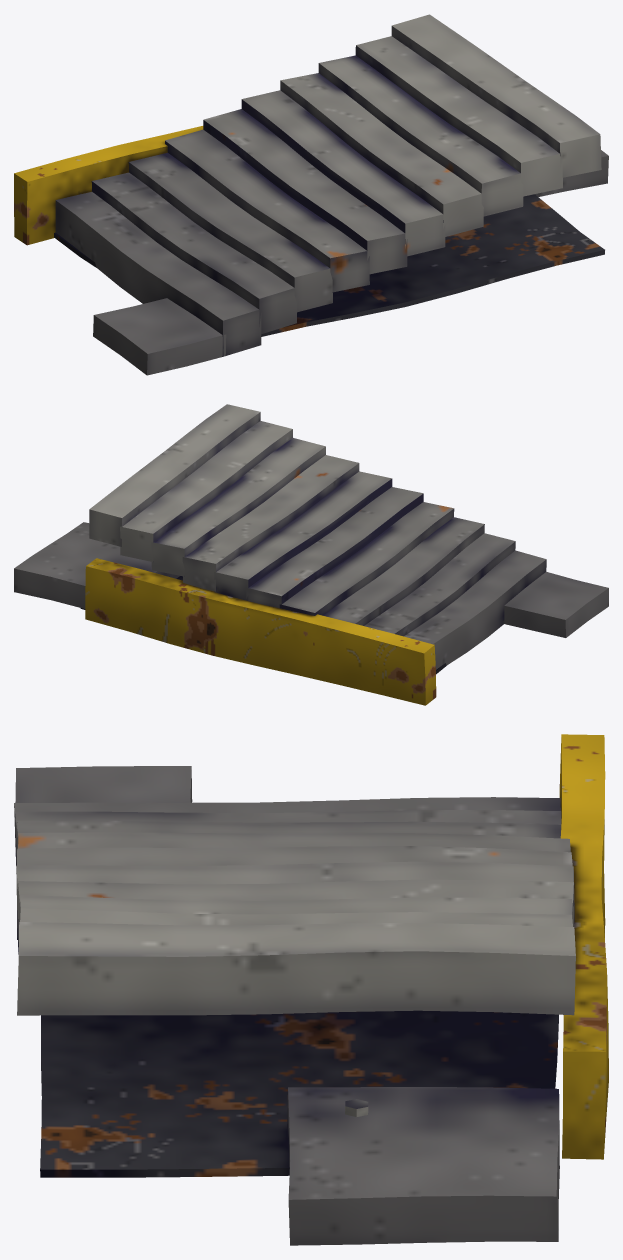
File: RockSlab.glb
3 renders of one model, top to bottom at view 1: azimuth 30°, elevation 25°; view 2: azimuth 150°, elevation 25°; view 3: azimuth 270°, elevation 25°, orthographic. The views are drawn at different scales.
Parts seen in each view (by area): view 1: Slabs, Grit, Kerb; view 2: Slabs, Kerb; view 3: Slabs, Grit, Kerb.
Part boxes in pixels (bbox=[...]): Slabs: bbox=[55, 14, 608, 375]; Grit: bbox=[54, 194, 604, 336]; Kerb: bbox=[14, 126, 203, 245]; Slabs: bbox=[14, 404, 608, 669]; Kerb: bbox=[85, 558, 436, 705]; Slabs: bbox=[14, 766, 575, 1245]; Grit: bbox=[40, 1010, 558, 1177]; Kerb: bbox=[559, 734, 608, 1159].
Bounding box in the file's own units: 4.93 × 1.15 × 2.79.
Materials: 3 (3 with a texture image).
